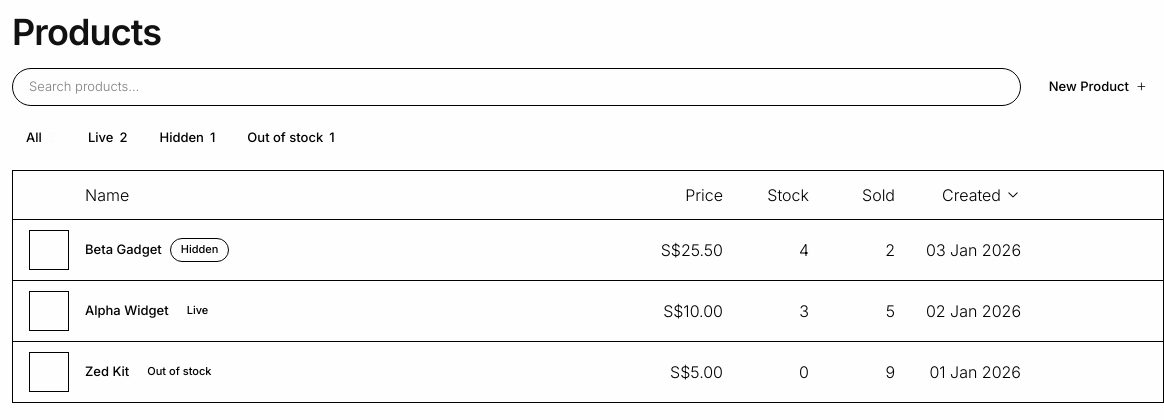
Test: Creator products list › search filters rows by name
Expected: the text "Alpha Widget" is shown, top-left (85, 301), bottom-right (169, 320)
Type "beta" into the search field labelled "Search products" at (516, 87), box top-left (12, 68), bottom-right (1021, 106)
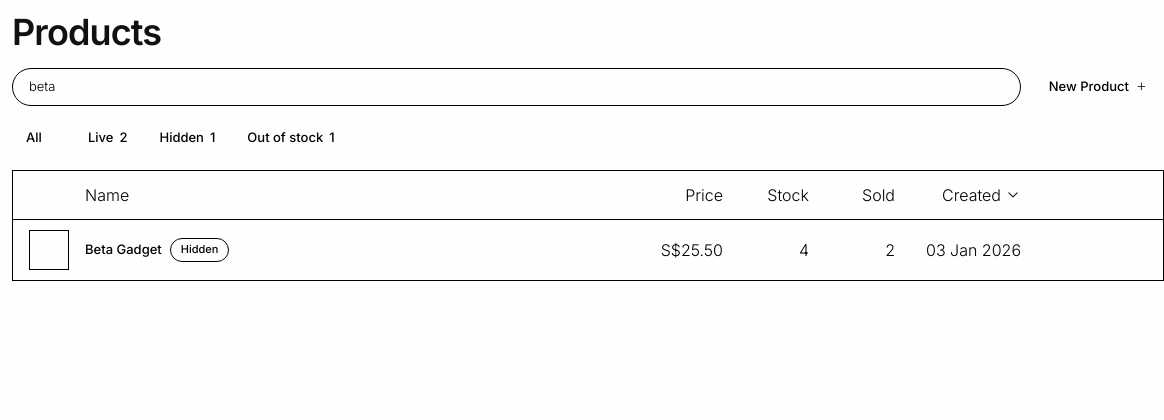
Expected: the text "Beta Gadget" is shown, top-left (85, 240), bottom-right (162, 259)
Result: the link "Alpha Widget" is gone
